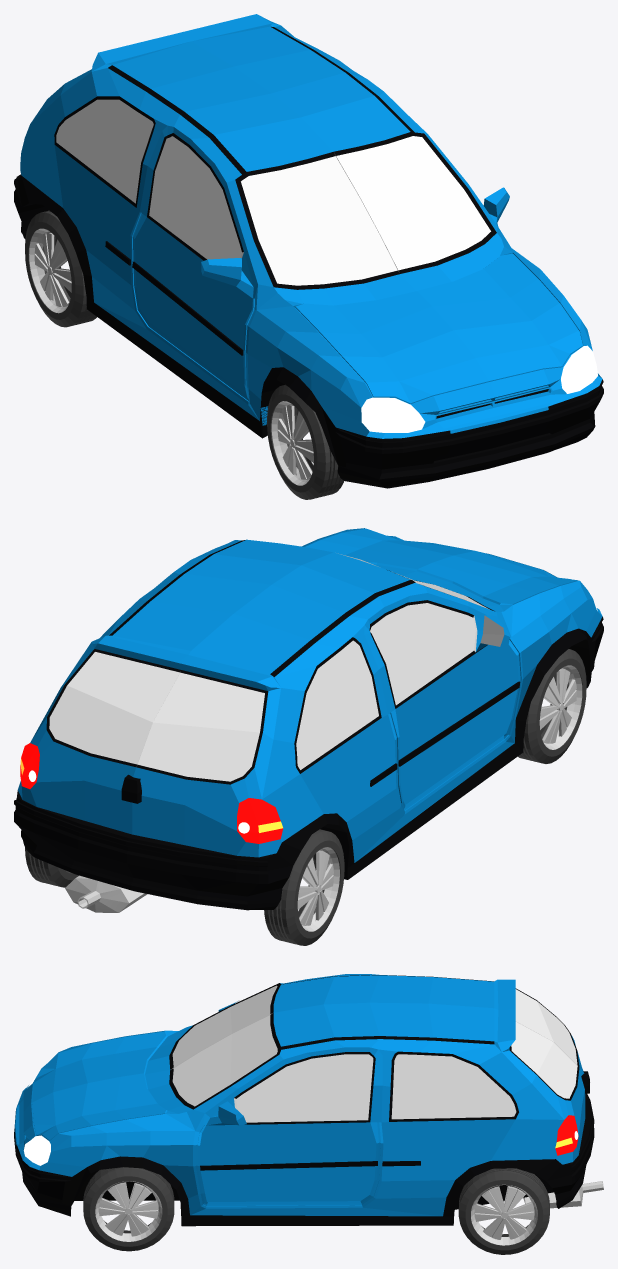
Rendered from cv-corsab.glb.
The picture shows the model from 3 angles, top to bottom: view 1: azimuth 30°, elevation 25°; view 2: azimuth 150°, elevation 25°; view 3: azimuth 270°, elevation 25°; orthographic projection. The views are drawn at different scales.
Visible parts, largest first — view 1: Car_Main Color_0, lamp_head_R; view 2: Car_Main Color_0; view 3: Car_Main Color_0.
Part boxes in pixels (x1,y1,x2,y2): Car_Main Color_0: [14, 14, 603, 499]; lamp_head_R: [373, 397, 407, 432]; Car_Main Color_0: [14, 528, 603, 945]; Car_Main Color_0: [14, 974, 603, 1254].
Bounding box in the file's own units: 1.73 × 1.42 × 3.73.
Materials: 4 (4 with a texture image).
